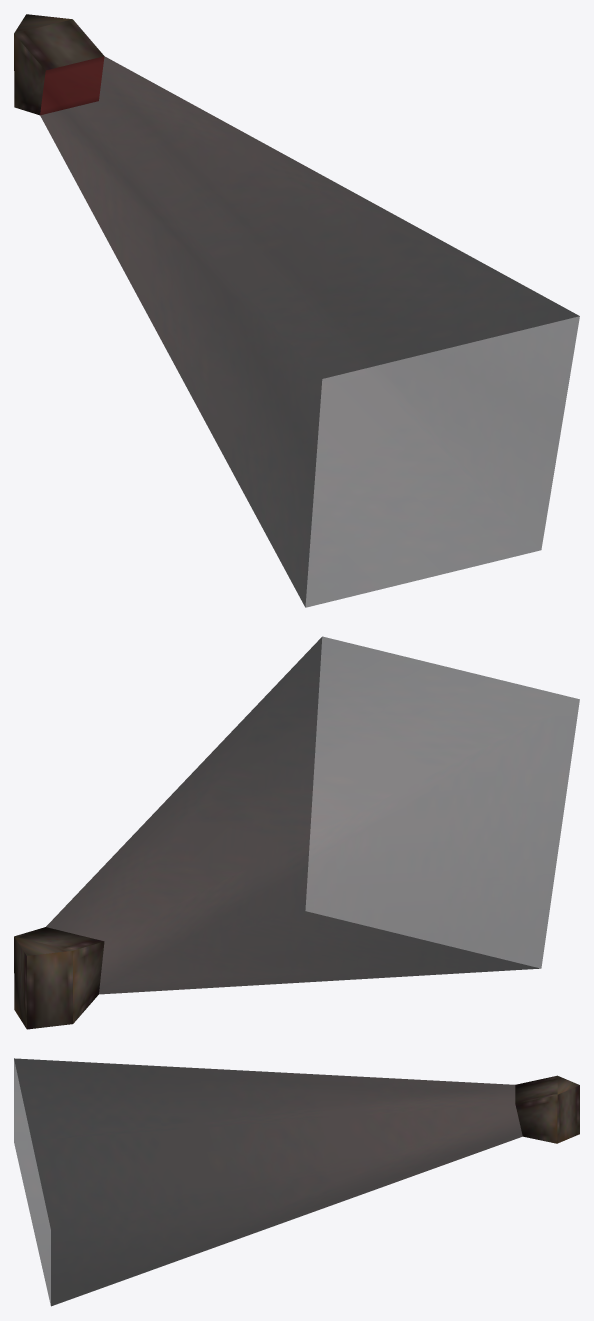
File: prop-060.glb
The picture shows the model from 3 angles, top to bottom: view 1: azimuth 30°, elevation 25°; view 2: azimuth 150°, elevation 25°; view 3: azimuth 270°, elevation 25°; orthographic projection. The views are drawn at different scales.
Parts seen in each view (by area): view 1: root; view 2: root; view 3: root.
Part boxes in pixels (<box>): root: <box>14,14,579,607</box>; root: <box>14,636,579,1029</box>; root: <box>14,1058,579,1306</box>.
Bounding box in the file's own units: 0.8809 × 0.8965 × 2.51.
Materials: 3 (3 with a texture image).
